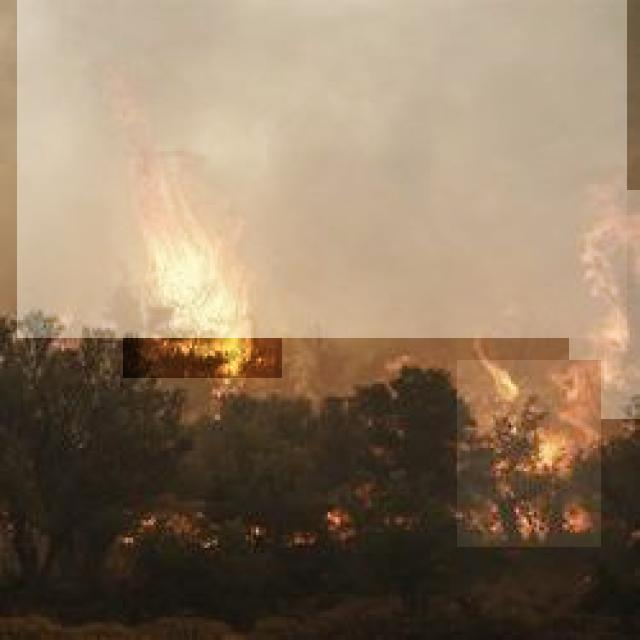Fire: (123, 195, 282, 378), (458, 360, 602, 547), (569, 190, 640, 419)
Smoke: (17, 0, 627, 338)
